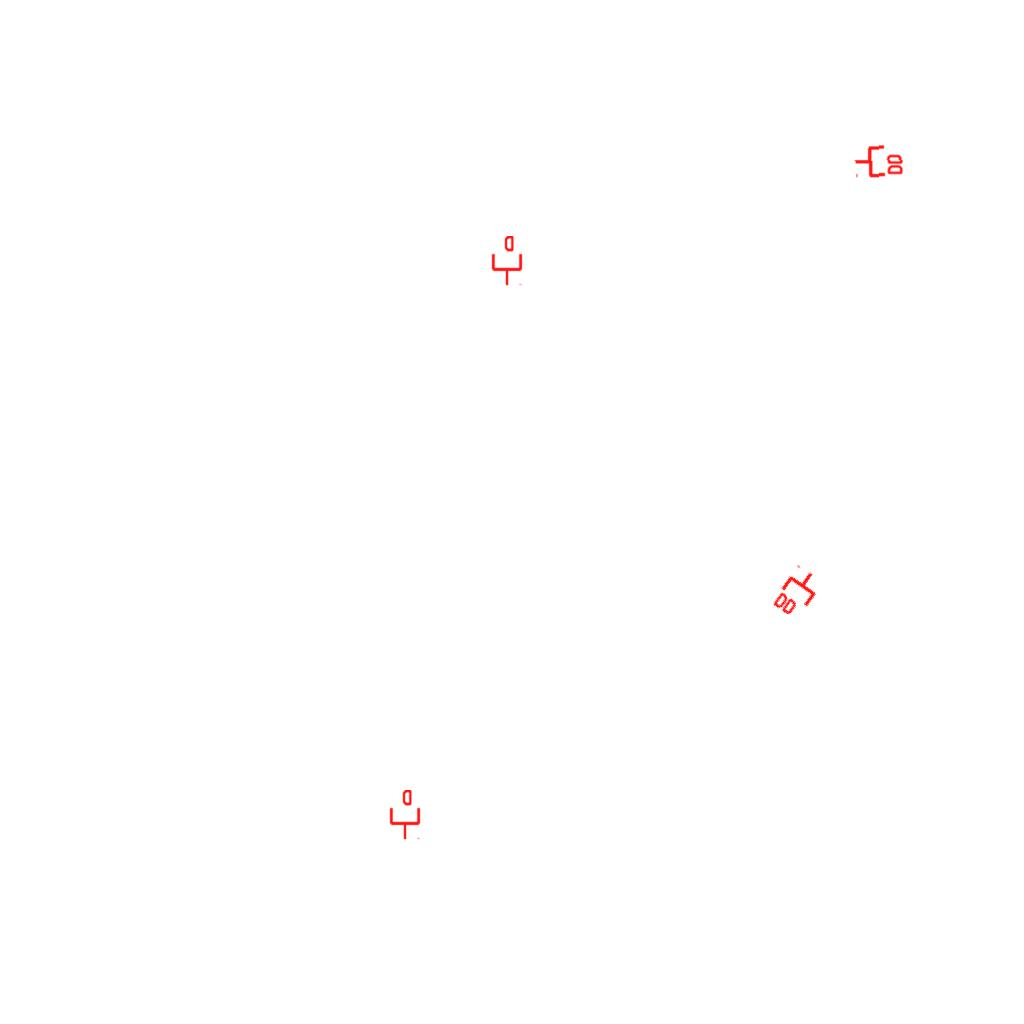Datenanschluss_einfach: (490, 236, 524, 286), (388, 790, 422, 840)
Datenanschluss_zweifach: (769, 562, 827, 625), (852, 142, 906, 179)
